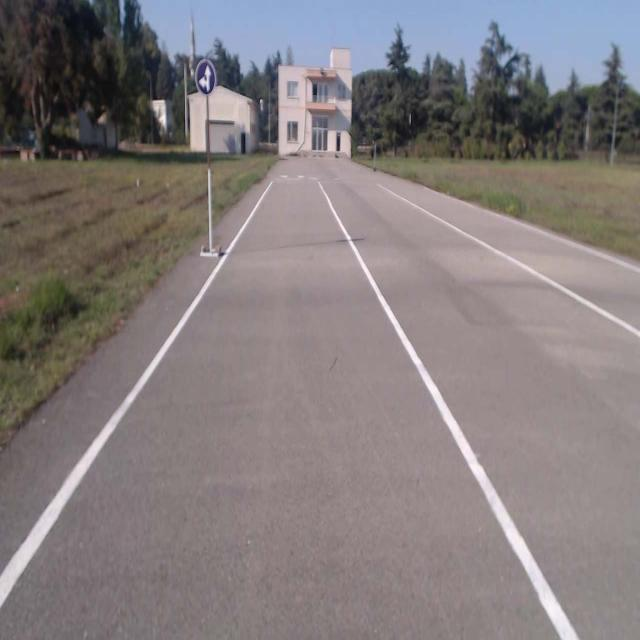ilerisol: (195, 60, 216, 95)
